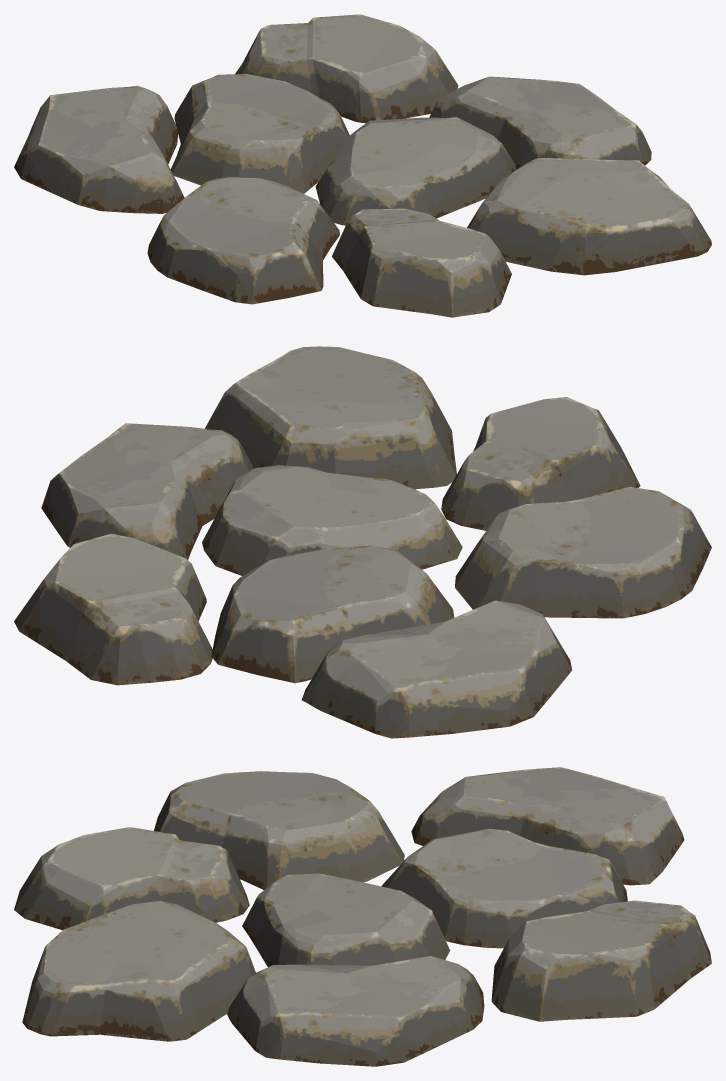
File: RockPath_Round_Small_3__go_coast.glb
3 renders of one model, top to bottom at view 1: azimuth 30°, elevation 25°; view 2: azimuth 150°, elevation 25°; view 3: azimuth 270°, elevation 25°, orthographic. The views are drawn at different scales.
Visible parts, largest first — view 1: RockPath_Round_Small_3; view 2: RockPath_Round_Small_3; view 3: RockPath_Round_Small_3.
Part boxes in pixels (left/top/right/bottom): RockPath_Round_Small_3: left=14, top=14, right=711, bottom=317; RockPath_Round_Small_3: left=14, top=346, right=711, bottom=738; RockPath_Round_Small_3: left=14, top=767, right=711, bottom=1066.
Size of the model in its own units: 1.18 by 0.1093 by 1.29.
Materials: 1 (1 with a texture image).
